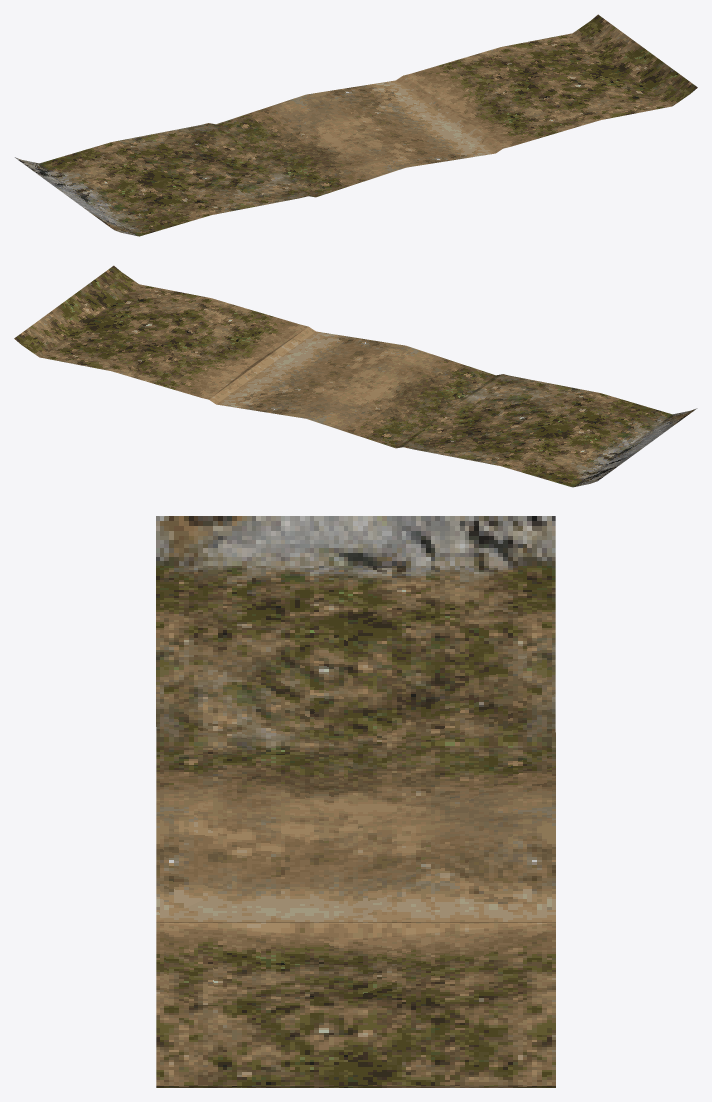
File: 3_road_01_seamles.glb
3 renders of one model, top to bottom at view 1: azimuth 30°, elevation 25°; view 2: azimuth 150°, elevation 25°; view 3: azimuth 270°, elevation 25°, orthographic. The views are drawn at different scales.
Visible parts, largest first — view 1: 3_road_01_seamles; view 2: 3_road_01_seamles; view 3: 3_road_01_seamles.
Part boxes in pixels (box(x1,y1,x2,y2)): 3_road_01_seamles: box(15, 14, 697, 236); 3_road_01_seamles: box(14, 265, 697, 487); 3_road_01_seamles: box(156, 516, 555, 1087).
Bounding box in the file's own units: 27.01 × 0.7876 × 8.
Materials: 1 (1 with a texture image).
